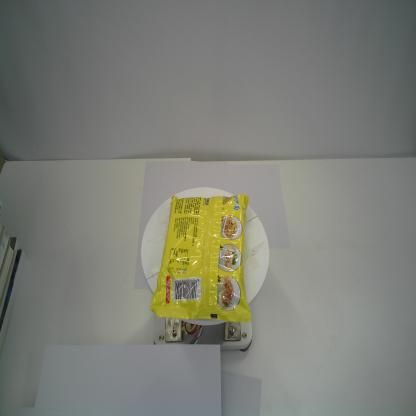Instant Noodles: (149, 194, 252, 324)
